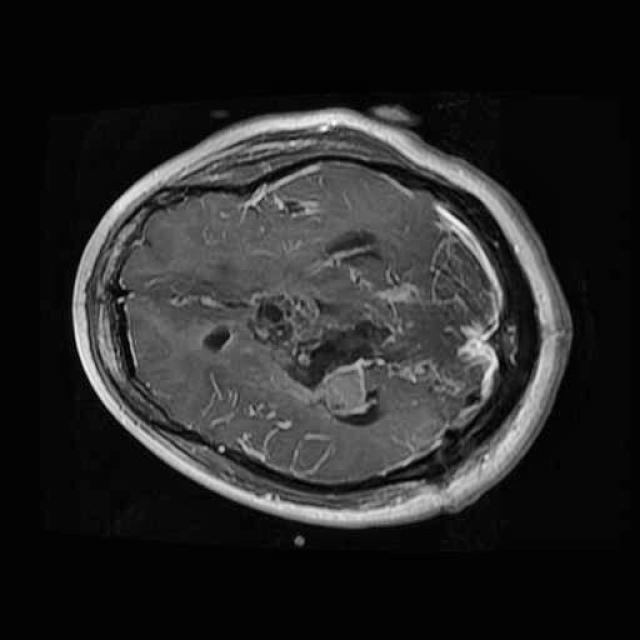Non-Tumor: (226, 270, 412, 421)
